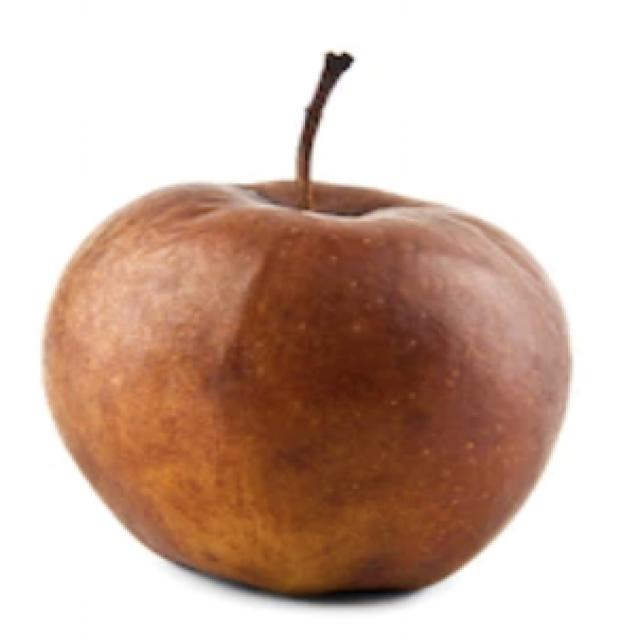rotten_apple: (41, 125, 571, 599)
